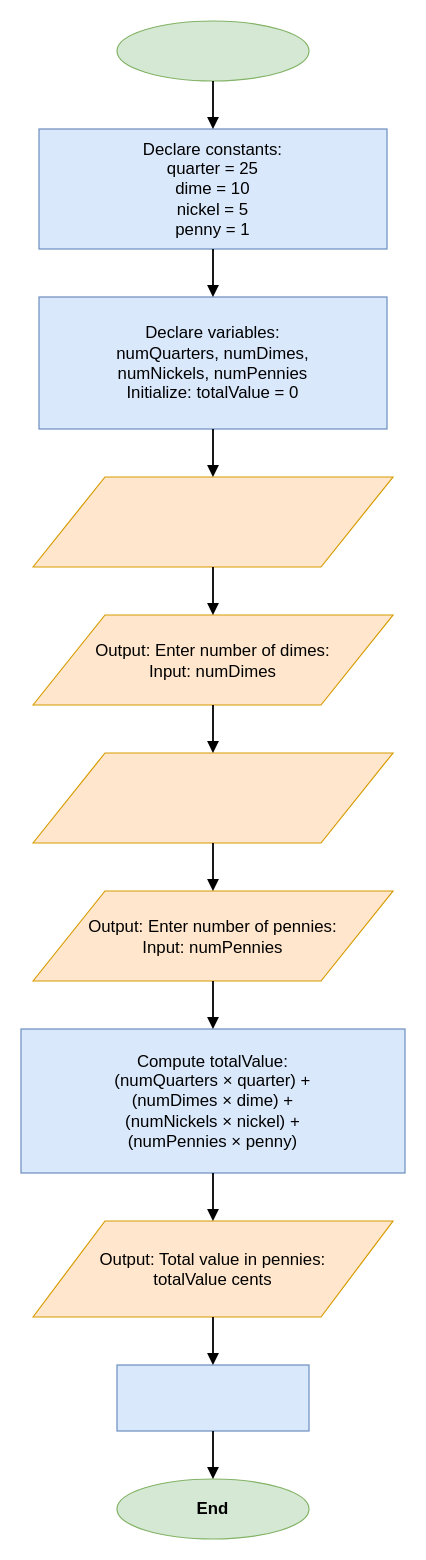
Image size: 426x1560. Some labels were removed from this diagram. Each missing label, with the centre of its shape:
"Output: Enter number of nickels: Input: numNickels" goes at pixel 212 797.
"Output: Enter number of quarters: Input: numQuarters" goes at pixel 212 521.
"Return 0" goes at pixel 212 1397.
"Start" goes at pixel 212 50.
